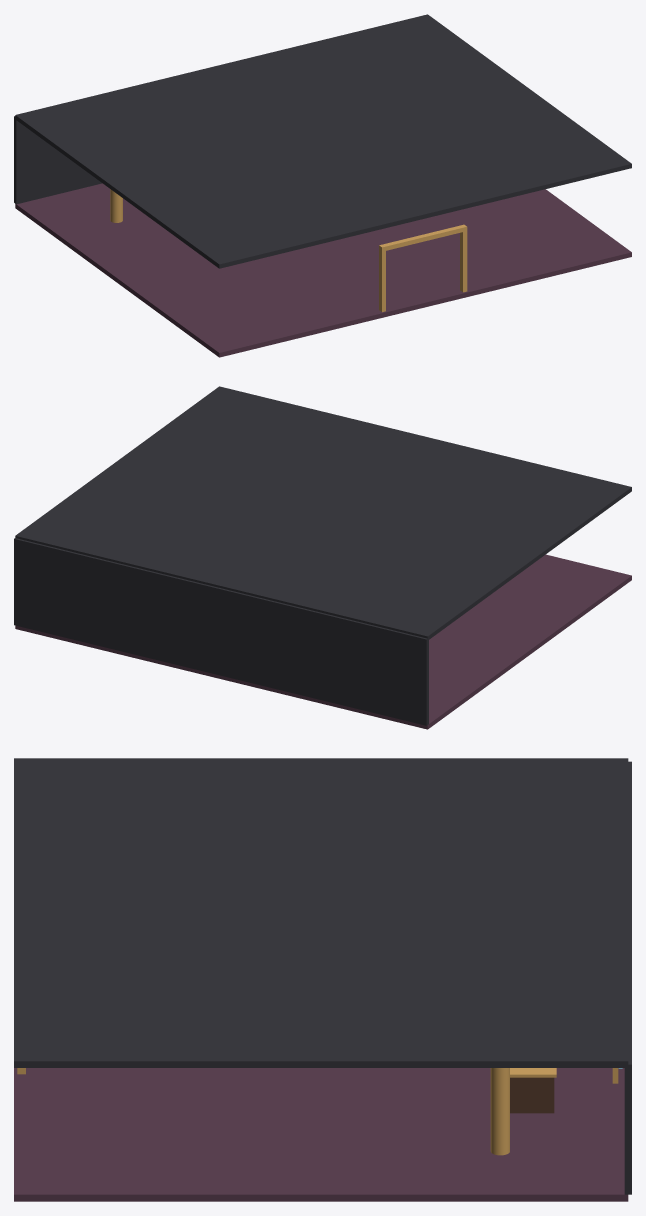
Rendered from luxury-hotel-lobby.glb.
3 renders of one model, top to bottom at view 1: azimuth 30°, elevation 25°; view 2: azimuth 150°, elevation 25°; view 3: azimuth 270°, elevation 25°, orthographic. The views are drawn at different scales.
Visible parts, largest first — view 1: luxury-hotel-lobby; view 2: luxury-hotel-lobby; view 3: luxury-hotel-lobby.
Part boxes in pixels (x1,y1,x2,y2): luxury-hotel-lobby: (14,14,631,357); luxury-hotel-lobby: (14,386,631,729); luxury-hotel-lobby: (14,758,631,1201).
Bounding box in the file's own units: 28 × 6.04 × 24.14.
